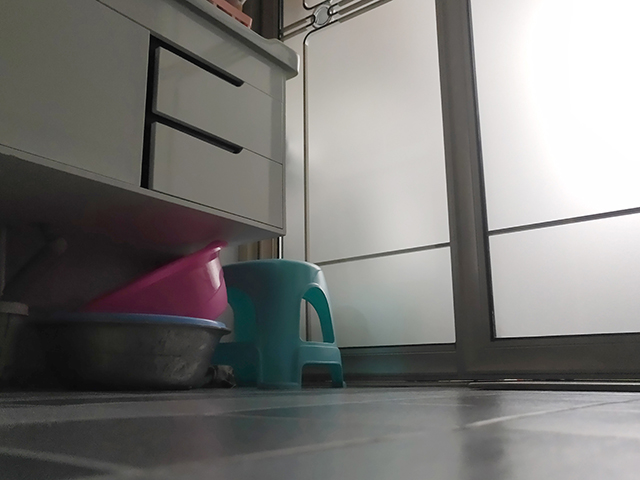stool: (219, 256, 349, 393)
